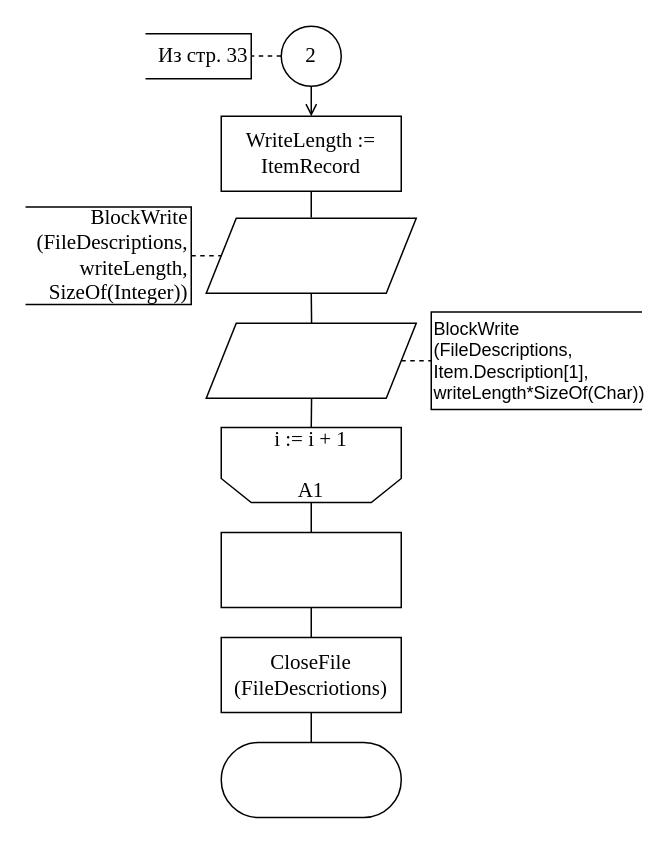
This 672x845 diagram has some shape labels left out. The centre of each missing label's shape, as x and y in pixels:
CloseFile (FileLibrary): [310,569]
Выход LibraryExport (List, FileName): [310,779]
